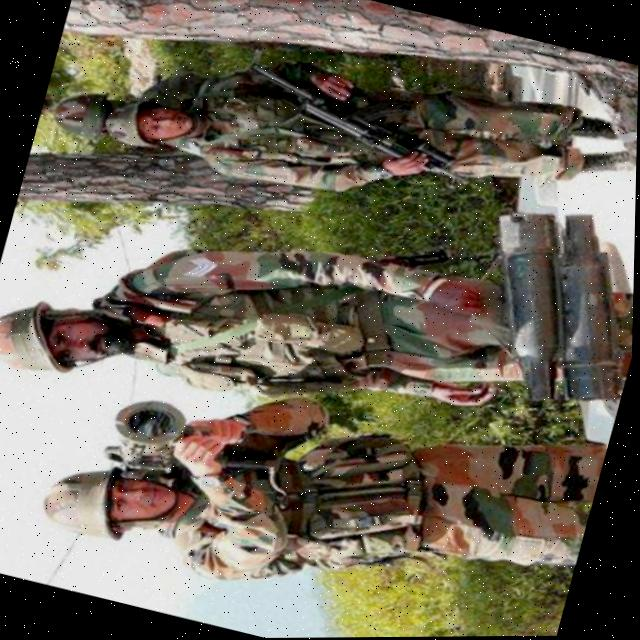rocket: (439, 181, 637, 434)
